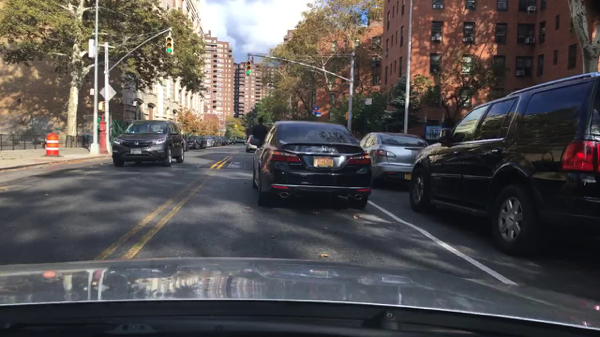car: (408, 70, 599, 257), (250, 119, 373, 211), (357, 132, 428, 188), (112, 118, 186, 166), (245, 134, 264, 154), (188, 135, 206, 149), (203, 136, 217, 148), (184, 137, 194, 151), (231, 138, 247, 146), (221, 136, 229, 146), (215, 137, 223, 147), (227, 139, 234, 145)
person: (253, 116, 269, 150)
traffic light: (165, 36, 174, 54), (245, 60, 251, 76), (98, 102, 104, 111), (345, 112, 348, 120), (235, 124, 237, 128), (234, 125, 235, 129)
traffic sign: (100, 85, 117, 102), (365, 98, 371, 105), (314, 106, 318, 111), (316, 113, 321, 117)
